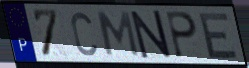7: (31, 9, 61, 59)
C: (69, 10, 99, 58)
E: (198, 11, 240, 60)
M: (96, 10, 141, 58)
N: (129, 9, 174, 61)
P: (165, 10, 199, 60)
